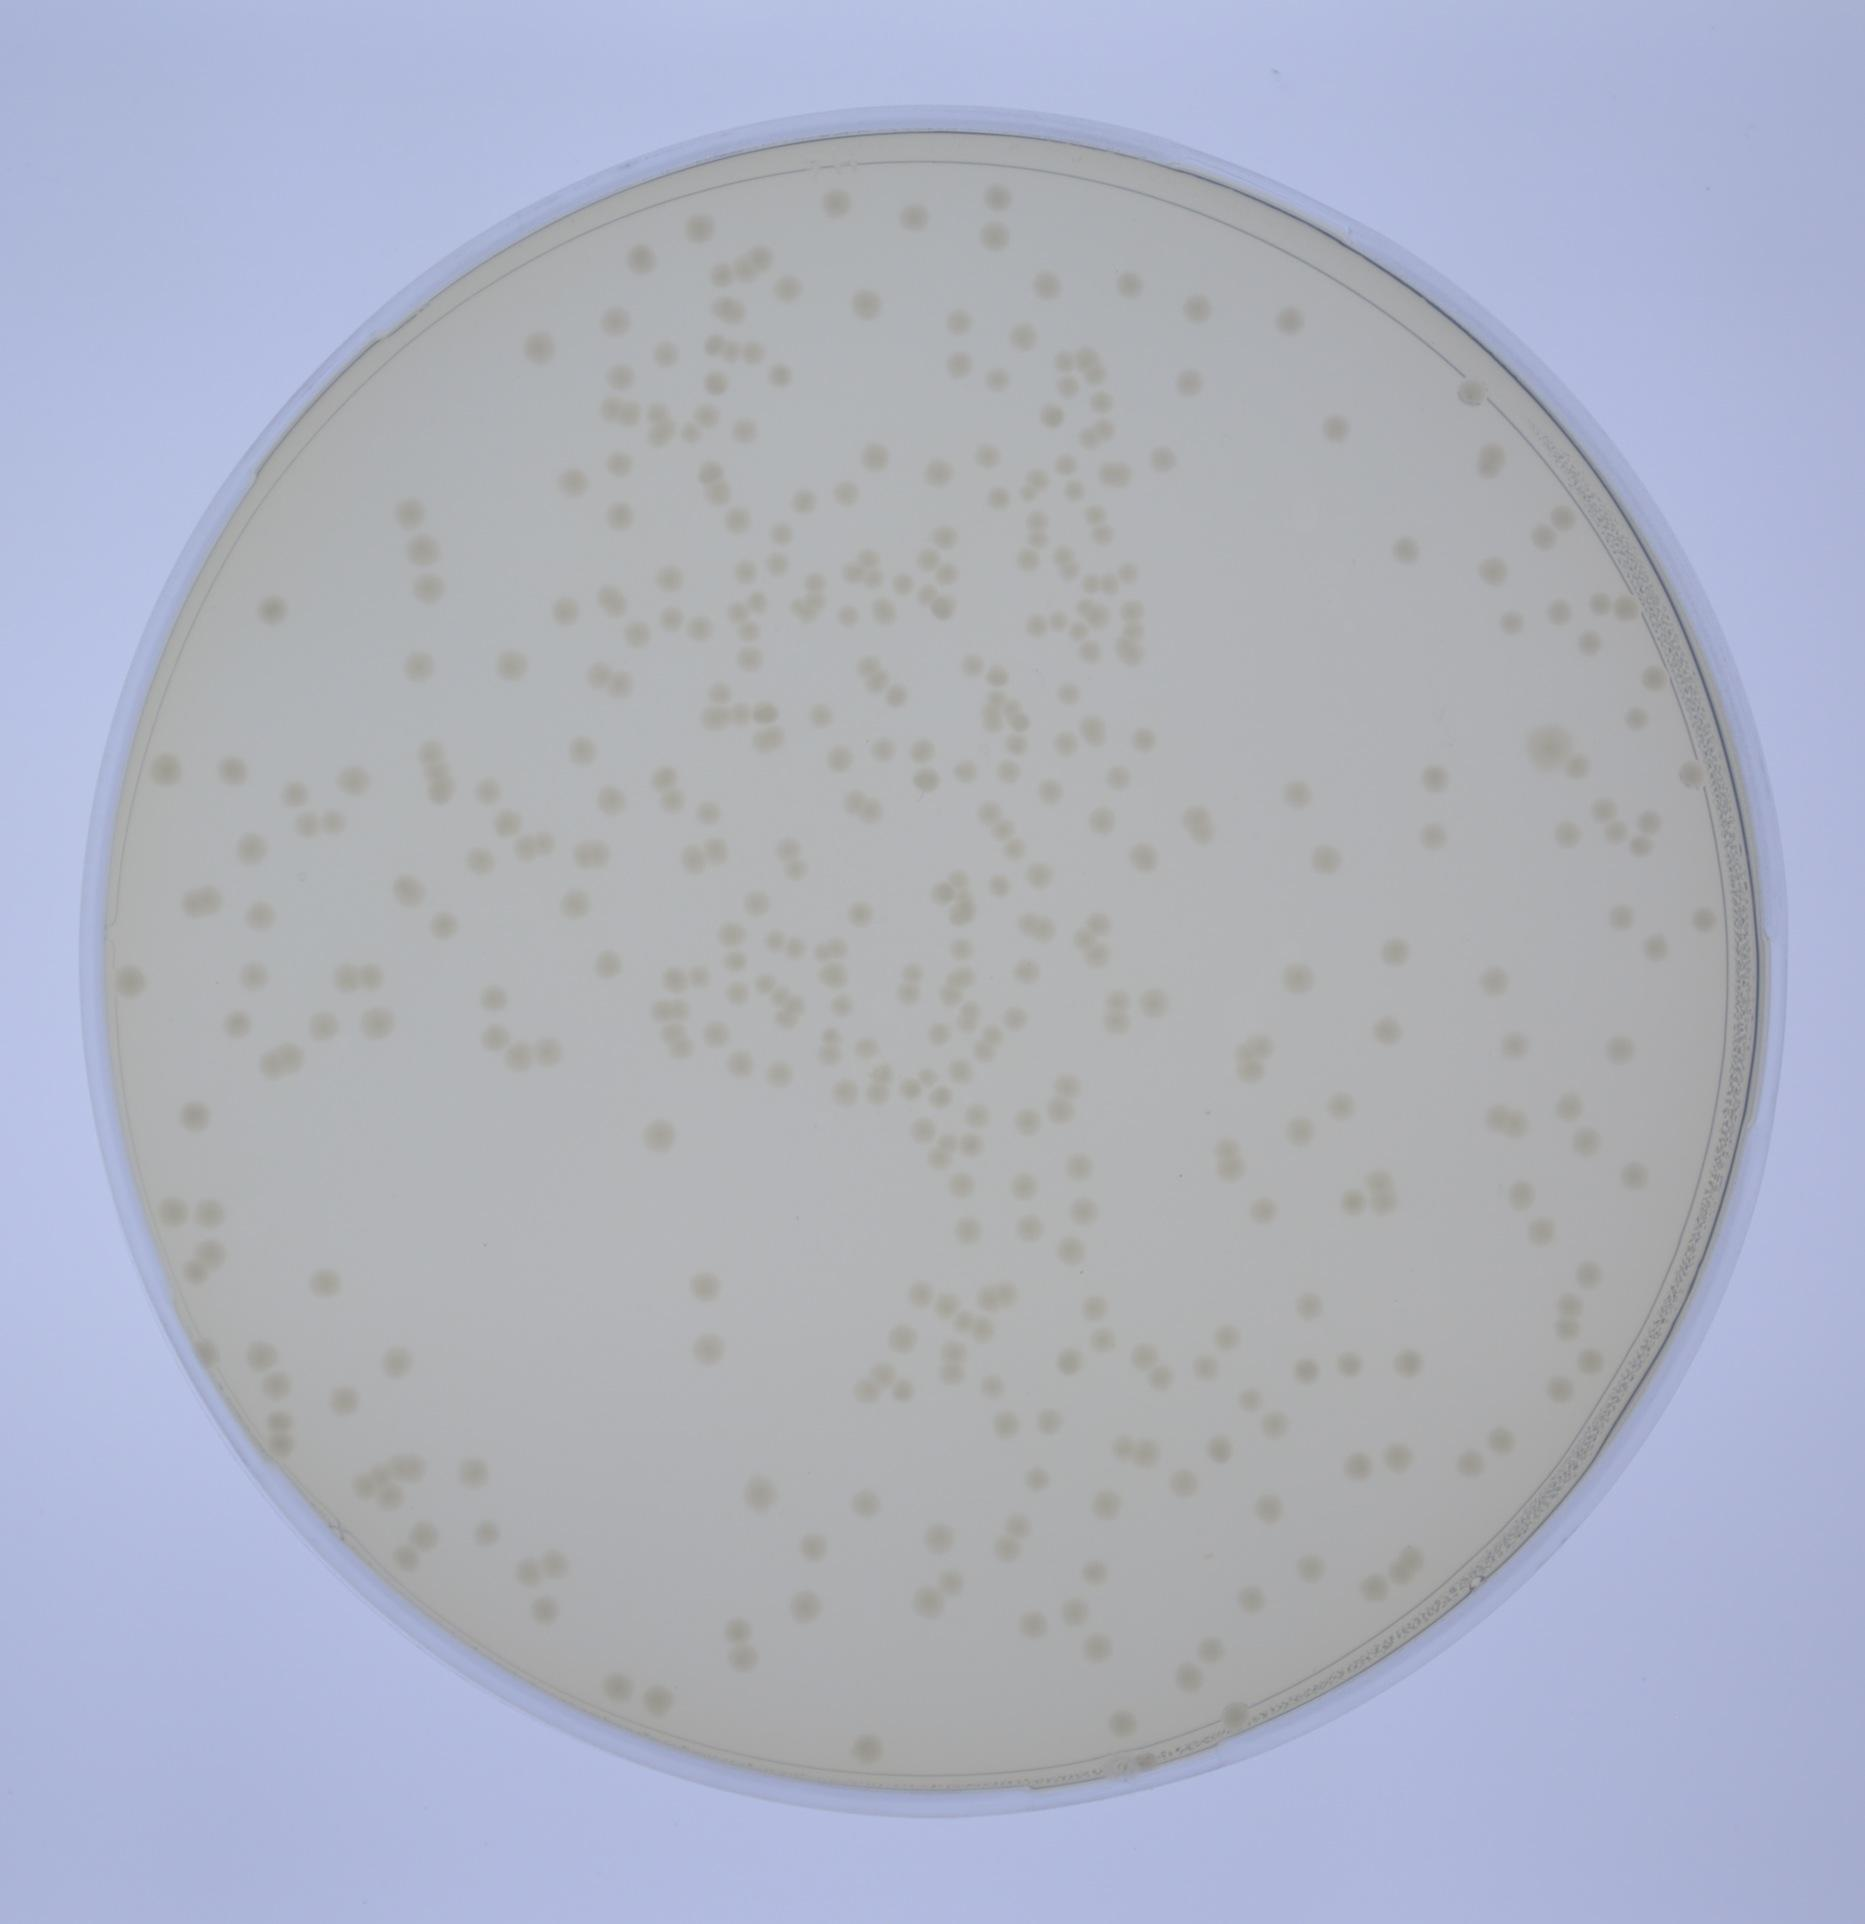colony: (484, 639, 541, 691), (632, 1113, 685, 1165), (735, 1464, 783, 1520), (635, 1673, 689, 1723), (103, 952, 156, 1002), (1271, 771, 1324, 819), (1381, 524, 1436, 570), (299, 1257, 349, 1307), (1520, 723, 1571, 771), (1463, 436, 1513, 484), (1365, 1005, 1413, 1055), (592, 1661, 639, 1713), (1448, 369, 1501, 414), (249, 589, 297, 637), (778, 1584, 824, 1634), (541, 589, 592, 634), (392, 644, 443, 689), (144, 747, 191, 795), (790, 1525, 841, 1568), (587, 577, 639, 620), (1470, 548, 1513, 600), (582, 940, 629, 986), (567, 830, 613, 876), (388, 486, 434, 533), (404, 563, 450, 610), (890, 192, 936, 239), (452, 1452, 500, 1496), (252, 1364, 301, 1409), (146, 1190, 194, 1235), (173, 1089, 218, 1137), (560, 728, 610, 771), (1408, 816, 1458, 859), (225, 830, 278, 869), (520, 1584, 565, 1630), (534, 1539, 579, 1586), (422, 900, 467, 947), (687, 1324, 735, 1367), (841, 1483, 890, 1525), (589, 776, 637, 819), (704, 289, 752, 332), (841, 1726, 891, 1768), (237, 898, 282, 943), (1305, 837, 1352, 880), (189, 1192, 237, 1233), (328, 756, 376, 797), (397, 529, 445, 570), (1599, 1026, 1640, 1074), (180, 1331, 220, 1381), (910, 1579, 953, 1623), (685, 1263, 728, 1307), (716, 1608, 761, 1651), (386, 868, 431, 910), (591, 299, 634, 344), (553, 883, 599, 924), (519, 325, 565, 366), (1413, 756, 1460, 797), (1601, 893, 1642, 940), (304, 1003, 352, 1043), (854, 435, 896, 478), (457, 838, 501, 880), (546, 462, 591, 503), (713, 500, 757, 541), (1274, 952, 1315, 996), (273, 775, 319, 814), (642, 337, 689, 376), (1546, 1082, 1592, 1122), (1614, 1149, 1654, 1196), (240, 1335, 282, 1378), (359, 1002, 400, 1044), (524, 1031, 565, 1074), (919, 454, 960, 496), (1633, 924, 1676, 965), (215, 747, 259, 787), (220, 1003, 264, 1043), (845, 283, 890, 323), (1566, 1120, 1606, 1165), (1230, 1579, 1276, 1617), (622, 235, 663, 277), (1494, 1022, 1535, 1063), (1099, 1704, 1142, 1744), (465, 1512, 505, 1555), (347, 1460, 386, 1503), (321, 1381, 364, 1421), (232, 957, 275, 996), (694, 366, 738, 404), (1267, 301, 1314, 337), (601, 663, 642, 703), (653, 557, 694, 596), (467, 768, 508, 807), (762, 357, 804, 397), (1633, 656, 1673, 697), (647, 598, 690, 636), (598, 496, 641, 534), (1376, 931, 1418, 969), (577, 656, 622, 692), (884, 1318, 924, 1357), (489, 802, 529, 842), (313, 801, 352, 840), (1025, 268, 1066, 306), (950, 1213, 991, 1251), (505, 1550, 543, 1591), (1133, 986, 1176, 1022), (811, 184, 854, 220), (1674, 752, 1710, 795), (1472, 960, 1515, 996), (678, 210, 723, 244), (975, 216, 1013, 256), (938, 344, 977, 381), (1123, 1434, 1163, 1472), (919, 1517, 958, 1555), (1291, 1550, 1331, 1587), (1570, 1256, 1607, 1295), (1049, 1345, 1089, 1383), (386, 1541, 426, 1579), (378, 1342, 417, 1379), (680, 606, 720, 644), (1546, 813, 1583, 852), (1121, 842, 1163, 878), (1202, 1433, 1243, 1469), (725, 412, 766, 448), (1315, 411, 1357, 447), (1053, 1233, 1096, 1268), (604, 445, 639, 488), (1556, 749, 1599, 783), (979, 177, 1017, 215), (1254, 1489, 1291, 1527), (1247, 1194, 1285, 1232), (498, 1036, 536, 1074), (1085, 1486, 1125, 1522), (984, 1529, 1024, 1565), (1501, 1172, 1537, 1211), (1525, 1209, 1561, 1249), (405, 1515, 445, 1551), (476, 979, 515, 1015), (1010, 1211, 1051, 1245), (1214, 1694, 1255, 1728), (941, 304, 979, 340), (1127, 721, 1163, 759), (936, 1562, 974, 1598), (1388, 1345, 1425, 1381), (368, 1476, 405, 1512), (261, 1400, 297, 1438), (261, 1428, 297, 1465), (618, 612, 654, 649), (769, 268, 805, 306), (1522, 517, 1558, 555), (1494, 603, 1532, 639), (1546, 591, 1582, 629), (673, 842, 713, 876), (1113, 268, 1149, 304), (1063, 1146, 1099, 1182), (843, 893, 879, 929), (905, 1276, 941, 1312), (1024, 1455, 1060, 1491), (1003, 1172, 1041, 1206), (1353, 1568, 1391, 1603), (1185, 1352, 1223, 1386), (1333, 1182, 1370, 1216), (1456, 1445, 1491, 1483), (422, 776, 460, 811), (1568, 622, 1602, 660), (1683, 905, 1721, 940), (273, 1038, 311, 1072), (996, 1508, 1036, 1541), (1017, 1608, 1056, 1641), (598, 359, 637, 392), (1549, 495, 1580, 536), (1180, 290, 1214, 326), (814, 959, 850, 993), (761, 1056, 797, 1091), (702, 1017, 737, 1053), (699, 833, 735, 868), (1077, 1553, 1111, 1589), (1194, 1634, 1230, 1668), (1340, 1448, 1376, 1483), (1281, 1111, 1315, 1148), (1077, 1290, 1113, 1324), (476, 1017, 512, 1051), (289, 806, 325, 840), (673, 414, 708, 450), (1609, 591, 1645, 625), (1633, 801, 1669, 835), (1243, 1029, 1279, 1063), (1066, 1196, 1104, 1228), (1324, 1089, 1362, 1122), (1482, 1424, 1520, 1457), (728, 1639, 761, 1677), (357, 955, 390, 993), (1077, 1630, 1116, 1661), (981, 364, 1015, 399), (850, 1376, 884, 1410), (886, 1371, 920, 1405), (987, 1410, 1022, 1445), (1169, 1467, 1204, 1501), (1171, 1658, 1206, 1692), (690, 397, 725, 431), (1111, 634, 1144, 670), (1082, 804, 1115, 840), (866, 1357, 902, 1390), (1235, 1383, 1267, 1419), (1286, 1355, 1322, 1388), (1329, 1349, 1365, 1381), (1207, 1323, 1243, 1355), (1589, 790, 1621, 826), (194, 1237, 230, 1269), (254, 1048, 287, 1084), (1144, 443, 1182, 474), (656, 964, 694, 995), (1058, 1596, 1096, 1627), (1046, 1093, 1080, 1125), (908, 1113, 943, 1146), (860, 1077, 895, 1110), (829, 1075, 864, 1108), (824, 989, 857, 1024), (718, 1046, 750, 1081), (1142, 1361, 1176, 1393), (1552, 1309, 1585, 1343), (1576, 1342, 1609, 1376), (1085, 1323, 1120, 1355), (823, 742, 859, 773), (1379, 1441, 1415, 1472), (1257, 1409, 1293, 1440), (936, 1336, 972, 1367), (1077, 715, 1109, 747), (905, 732, 938, 764), (1080, 938, 1113, 971), (1011, 1105, 1044, 1137), (697, 704, 730, 737), (754, 723, 787, 756), (1546, 1373, 1578, 1405), (1599, 816, 1631, 849), (838, 783, 871, 816), (1006, 323, 1041, 354), (1036, 399, 1070, 429), (776, 854, 811, 885), (1032, 1405, 1066, 1436), (1619, 703, 1654, 734), (179, 1256, 213, 1287), (507, 831, 538, 866), (927, 593, 962, 624), (951, 756, 987, 785), (999, 1003, 1036, 1032), (1123, 1342, 1159, 1371), (1585, 584, 1614, 620), (854, 797, 890, 826), (1032, 910, 1060, 948), (1175, 366, 1206, 399), (1051, 728, 1084, 759), (1104, 761, 1137, 792), (1103, 1005, 1135, 1036), (984, 868, 1017, 898), (742, 886, 773, 919), (720, 948, 752, 979), (804, 699, 836, 730), (1108, 1431, 1140, 1462), (1628, 826, 1659, 859), (1233, 1055, 1266, 1086), (1369, 1187, 1401, 1218), (1499, 1108, 1530, 1141), (702, 478, 735, 508), (1085, 385, 1120, 414), (936, 983, 970, 1012), (644, 763, 678, 792), (704, 261, 738, 290), (1101, 986, 1137, 1014), (1209, 1134, 1245, 1161), (532, 823, 560, 859), (946, 1055, 977, 1086), (764, 546, 795, 577), (934, 1292, 965, 1323), (1554, 1290, 1585, 1321), (1396, 1543, 1427, 1574), (1053, 675, 1085, 704), (910, 763, 943, 792), (1082, 909, 1115, 938), (960, 1101, 993, 1130), (945, 1172, 977, 1201), (929, 522, 962, 551), (733, 646, 766, 675), (702, 677, 735, 706), (975, 1364, 1005, 1397), (1049, 1074, 1084, 1101), (812, 1041, 847, 1069), (1212, 1158, 1247, 1185), (331, 959, 359, 993), (201, 880, 228, 914), (1077, 500, 1111, 527), (987, 813, 1018, 842), (1027, 861, 1058, 890), (1010, 953, 1041, 983), (647, 996, 678, 1026), (869, 735, 900, 764), (744, 588, 775, 617), (694, 801, 725, 830), (967, 1314, 998, 1343), (857, 563, 888, 593), (1386, 1560, 1417, 1589), (993, 1276, 1022, 1307), (745, 242, 775, 273), (893, 979, 926, 1007), (829, 479, 862, 507), (852, 651, 884, 679), (1070, 344, 1103, 371), (945, 965, 979, 991), (714, 921, 749, 947), (1178, 804, 1212, 830), (984, 483, 1013, 512), (1075, 636, 1104, 665), (946, 935, 975, 964), (955, 1129, 984, 1158), (750, 969, 780, 998), (881, 682, 910, 711), (1054, 371, 1085, 399), (1115, 558, 1145, 586), (960, 651, 987, 682), (974, 797, 1005, 825), (927, 880, 958, 907), (922, 1020, 953, 1048), (932, 1130, 963, 1158), (685, 964, 716, 991), (869, 598, 900, 625), (750, 699, 781, 727), (1364, 1165, 1394, 1192), (1480, 1101, 1511, 1129), (179, 888, 206, 919), (771, 835, 804, 861), (977, 1285, 1003, 1318), (936, 1362, 969, 1388), (666, 1038, 699, 1063), (1053, 448, 1082, 476), (972, 441, 1001, 469), (1118, 596, 1147, 624), (867, 1060, 896, 1087), (932, 560, 962, 588), (915, 545, 945, 572), (725, 699, 752, 728), (658, 787, 687, 814), (854, 545, 881, 574), (738, 338, 768, 366), (1024, 464, 1053, 491), (696, 457, 725, 484), (922, 1144, 953, 1170), (723, 977, 749, 1008), (1291, 1292, 1322, 1318), (404, 1453, 429, 1484), (826, 933, 852, 964), (864, 670, 895, 696), (1080, 361, 1111, 387), (1085, 522, 1116, 548), (1070, 593, 1101, 618), (644, 399, 675, 424), (644, 423, 675, 448), (598, 392, 623, 423), (1113, 457, 1135, 491), (1060, 478, 1087, 505), (1024, 610, 1051, 637), (982, 661, 1010, 689), (945, 866, 972, 893), (817, 1020, 845, 1048), (781, 935, 809, 962), (1085, 601, 1113, 629), (733, 258, 761, 285), (1118, 617, 1147, 642), (994, 756, 1024, 782), (902, 959, 931, 984), (970, 1041, 999, 1067), (926, 1084, 955, 1110), (852, 1034, 881, 1060), (781, 991, 811, 1017), (726, 601, 756, 627), (1049, 541, 1078, 567), (1097, 570, 1123, 600), (702, 332, 728, 361), (414, 735, 445, 759), (417, 761, 453, 782), (910, 581, 941, 605), (622, 399, 646, 429), (1049, 349, 1077, 374), (1065, 617, 1090, 644), (1005, 732, 1030, 759), (898, 1077, 924, 1105), (835, 603, 860, 630), (733, 558, 759, 586), (737, 617, 764, 642), (792, 488, 817, 515), (953, 1306, 981, 1331), (1013, 548, 1041, 574), (386, 1455, 414, 1481), (1188, 823, 1216, 849), (1094, 416, 1120, 443), (1054, 558, 1080, 586), (721, 338, 747, 366), (999, 835, 1029, 859), (1068, 929, 1097, 953), (776, 1003, 800, 1032), (888, 570, 917, 594), (1020, 507, 1049, 531), (953, 895, 979, 921), (1006, 711, 1034, 735), (945, 907, 972, 931), (766, 984, 793, 1008), (764, 928, 792, 952), (802, 570, 829, 594), (1013, 912, 1037, 940), (1077, 423, 1101, 450), (1077, 570, 1101, 598), (912, 1063, 941, 1086), (658, 1020, 689, 1041), (1044, 606, 1068, 632), (1037, 778, 1063, 802), (802, 589, 828, 613), (1024, 526, 1049, 550), (984, 689, 1011, 711), (957, 1000, 984, 1022), (1096, 460, 1118, 488), (981, 711, 1005, 735), (668, 996, 692, 1020), (840, 560, 864, 584), (979, 1024, 1005, 1046), (974, 703, 1001, 723), (1233, 1041, 1255, 1065), (1017, 483, 1041, 505), (998, 696, 1024, 716), (771, 522, 795, 543), (953, 1017, 979, 1036), (811, 941, 831, 964), (797, 605, 817, 625), (950, 885, 972, 904), (790, 598, 807, 618)
